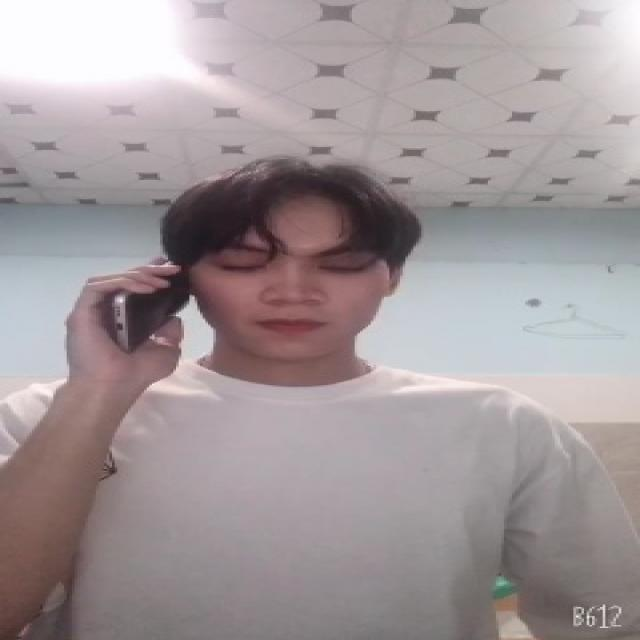Phone: (104, 252, 196, 353)
